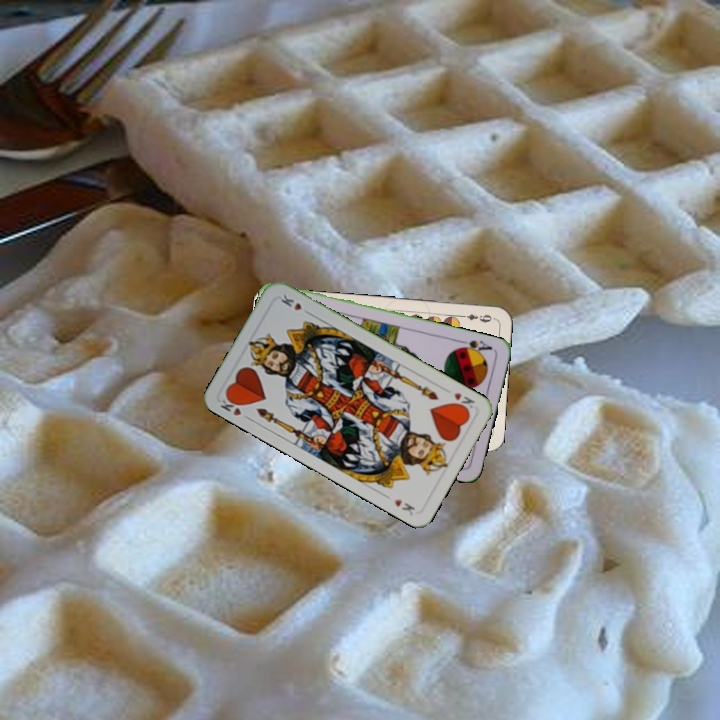E9: (456, 310, 494, 325)
HK: (216, 391, 253, 423), (449, 389, 477, 414)
SA: (454, 336, 495, 357)
